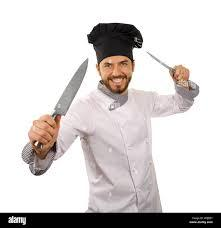Knife: (33, 57, 88, 150)
